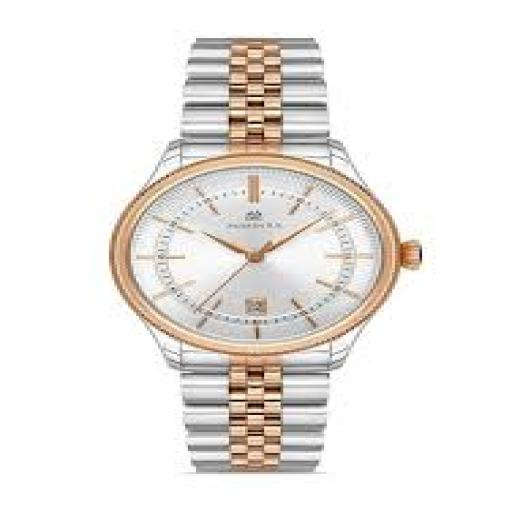KolSaati: (82, 15, 450, 497)
